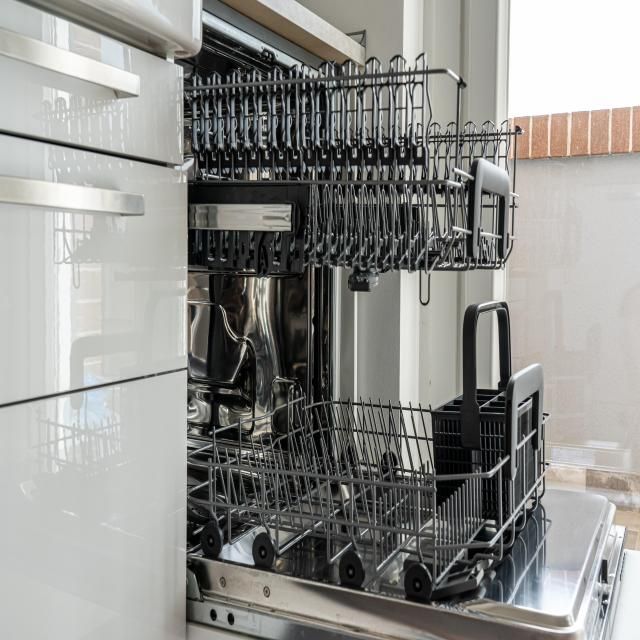dishwasher: (188, 0, 625, 640)
